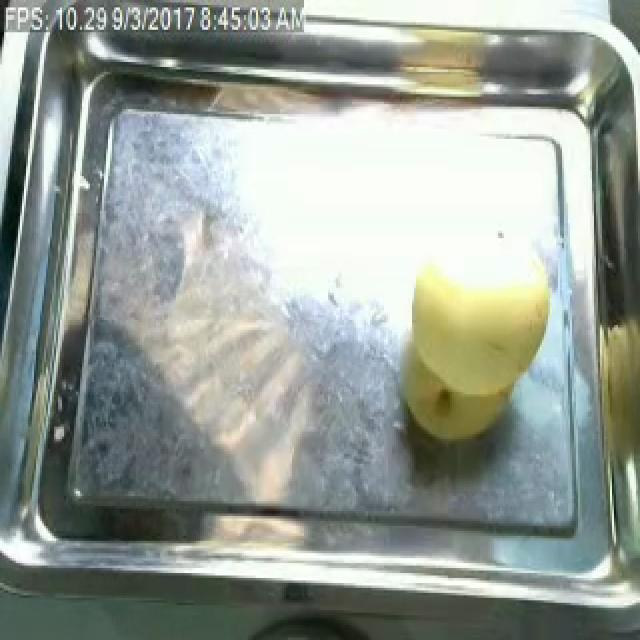Fruit: (390, 251, 562, 449)
